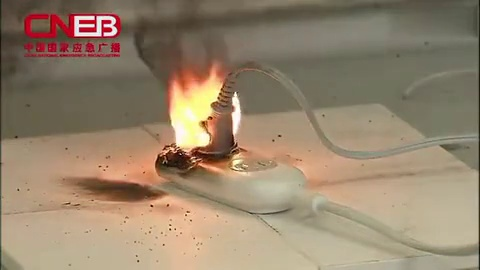fire: (160, 58, 248, 160)
